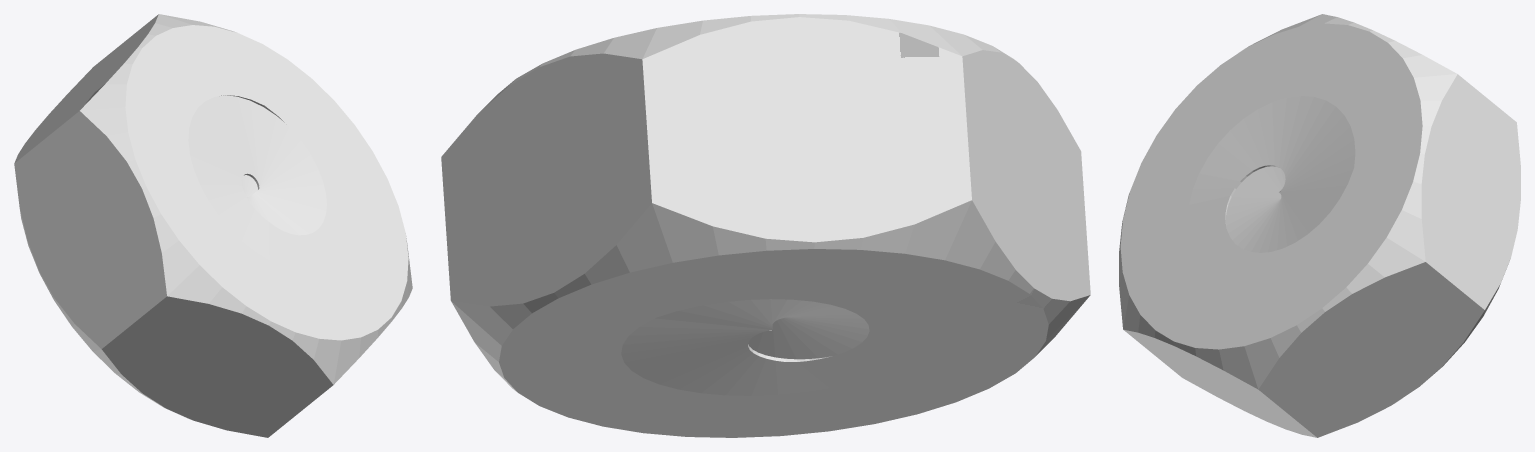
The model's file is Nut_010.obj.
3 renders of one model, left to right at view 1: azimuth 30°, elevation 25°; view 2: azimuth 150°, elevation 25°; view 3: azimuth 270°, elevation 25°, orthographic. The views are drawn at different scales.
Parts seen in each view (by area): view 1: Nut.010; view 2: Nut.010; view 3: Nut.010.
Part boxes in pixels (<box>): Nut.010: <box>14,14,412,437</box>; Nut.010: <box>441,14,1090,437</box>; Nut.010: <box>1119,14,1520,437</box>.
Bounding box in the file's own units: 0.1034 × 0.0957 × 0.1015.
1 material, 1 textured.
